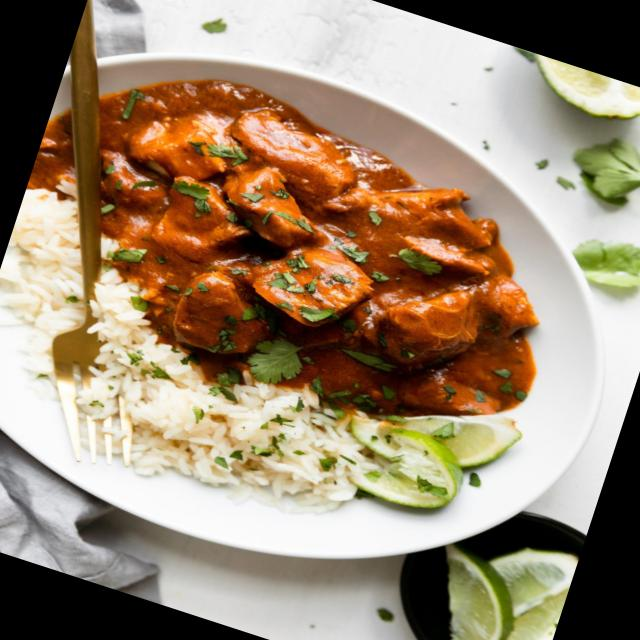chicken: (39, 36, 572, 430)
rice: (0, 195, 348, 510)
